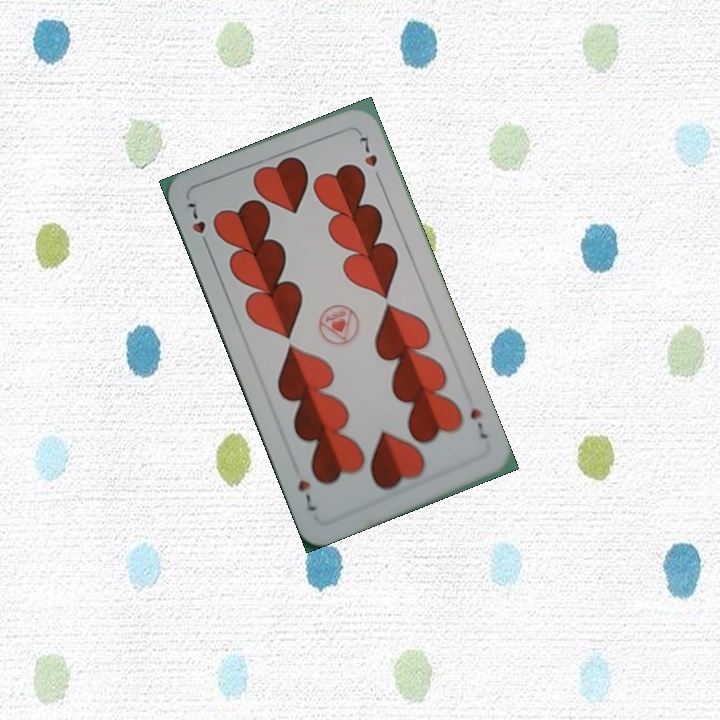H7: (183, 198, 212, 252), (466, 404, 491, 442)
